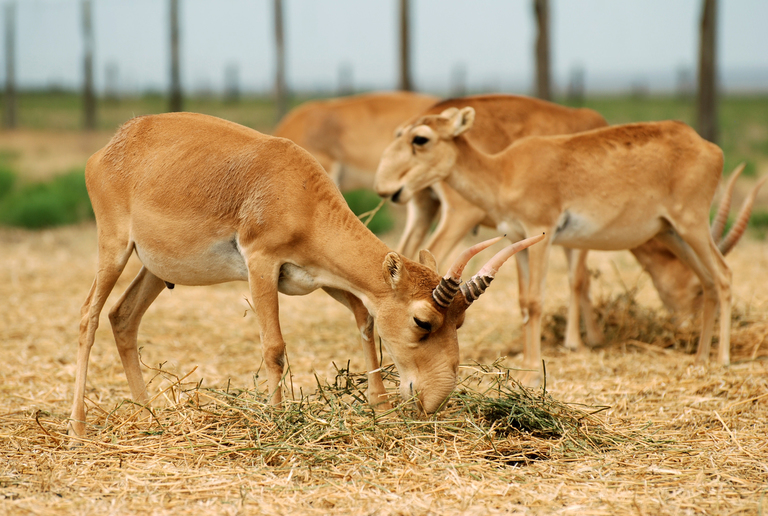saiga: (72, 110, 547, 429), (375, 102, 754, 366)
